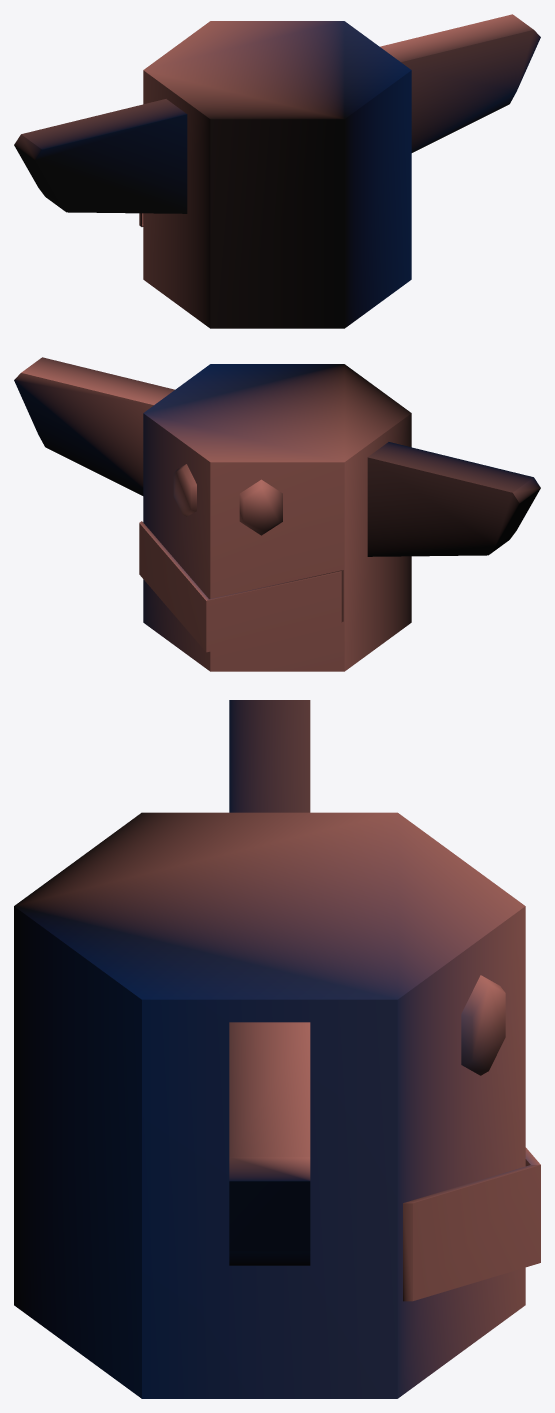
Rendered from Totem_Mesh.FBX.
3 renders of one model, top to bottom at view 1: azimuth 30°, elevation 25°; view 2: azimuth 150°, elevation 25°; view 3: azimuth 270°, elevation 25°, orthographic. The views are drawn at different scales.
Visible parts, largest first — view 1: Totem_Mesh; view 2: Totem_Mesh; view 3: Totem_Mesh.
Boxes of the visible parts, left/top/right/bottom form: Totem_Mesh: left=14, top=14, right=540, bottom=328; Totem_Mesh: left=14, top=357, right=540, bottom=671; Totem_Mesh: left=14, top=700, right=540, bottom=1398.
Bounding box in the file's own units: 253 × 100 × 120.
